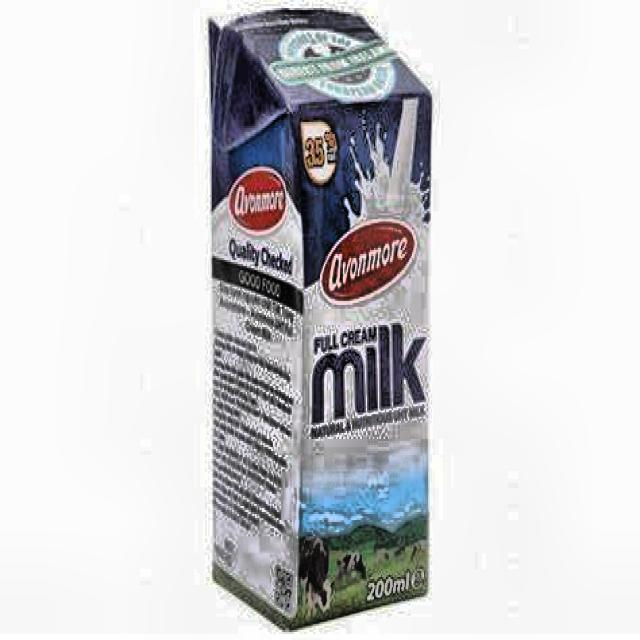cardboard: (206, 6, 432, 630)
